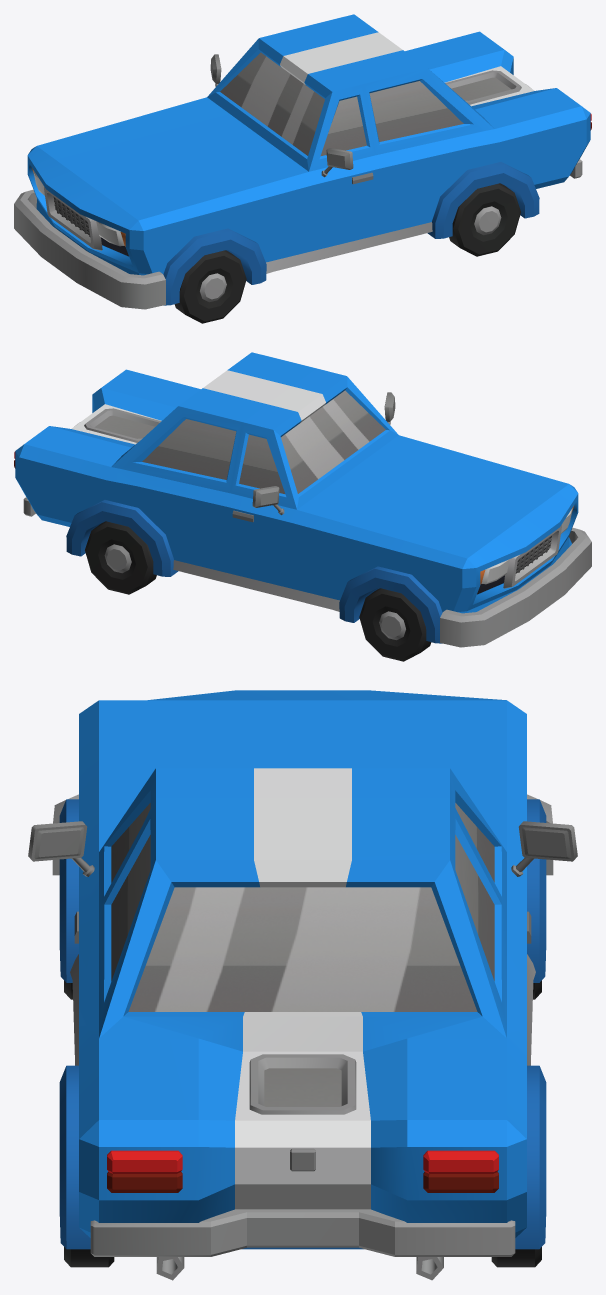
File: Car_18_W.gltf
3 views of the same model, one above another, from view 1: azimuth 30°, elevation 25°; view 2: azimuth 150°, elevation 25°; view 3: azimuth 270°, elevation 25° (orthographic). The views are drawn at different scales.
Parts seen in each view (by area): view 1: Car_18_W, RL, FL; view 2: Car_18_W, RR, FR; view 3: Car_18_W.
Part boxes in pixels (box(x1,y1,x2,y2)): Car_18_W: box(14, 14, 591, 309); RL: box(449, 183, 520, 256); FL: box(174, 250, 246, 323); Car_18_W: box(14, 352, 591, 647); RR: box(85, 521, 156, 594); FR: box(359, 588, 431, 661); Car_18_W: box(28, 690, 577, 1280).
Bounding box in the file's own units: 3.78 × 1.34 × 1.85.
Materials: 3 (3 with a texture image).
